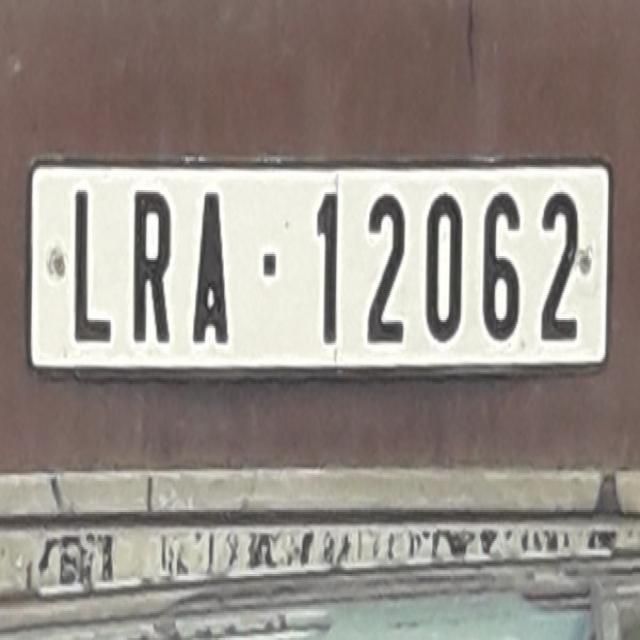pl_license_plate: (30, 165, 605, 361)
